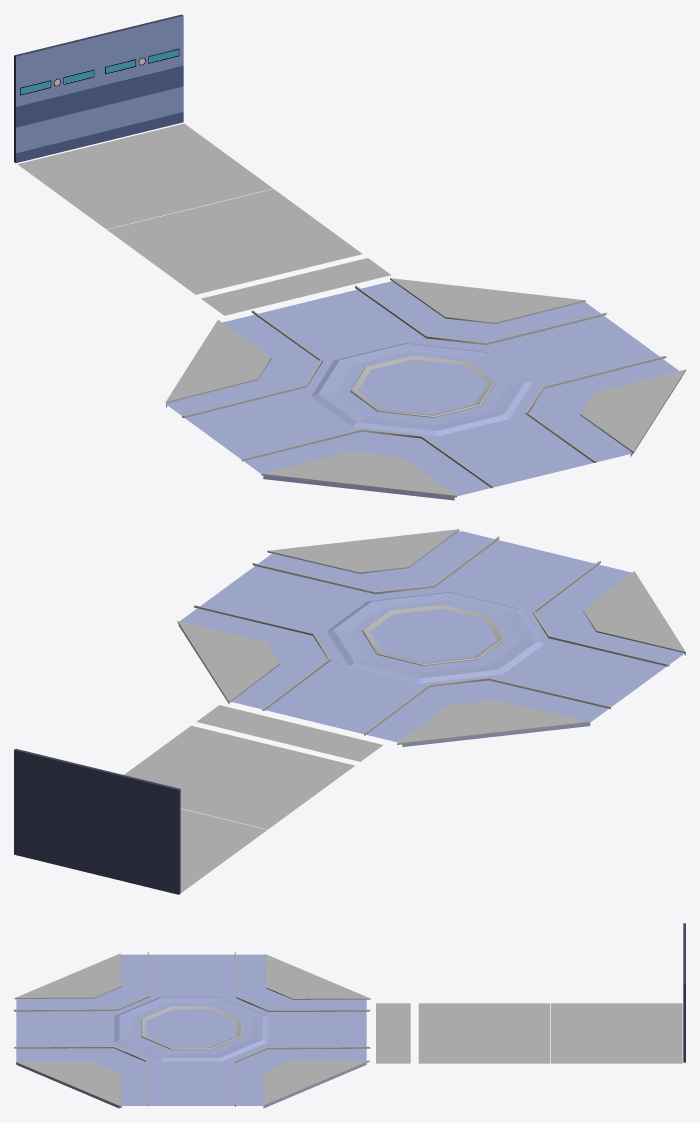
3 renders of one model, top to bottom at view 1: azimuth 30°, elevation 25°; view 2: azimuth 150°, elevation 25°; view 3: azimuth 270°, elevation 25°, orthographic. The views are drawn at different scales.
Parts seen in each view (by area): view 1: polySurface2442, trimsheet8, polySurface1, polySurface2877, polySurface2878, polySurface2443, polySurface2879, polySurface2703, polySurface2397; view 2: polySurface2442, trimsheet8, polySurface1, polySurface2443, polySurface2878, polySurface2879, polySurface2877, polySurface2703, polySurface2397; view 3: polySurface2442, polySurface1, polySurface2878, polySurface2877, polySurface2443, polySurface2879, polySurface2703, polySurface2397, trimsheet8.
Part boxes in pixels (box(x1,y1,x2,y2)): polySurface2442: box(166, 281, 681, 500); trimsheet8: box(14, 14, 183, 162); polySurface1: box(165, 278, 685, 497); polySurface2877: box(17, 123, 272, 229); polySurface2878: box(107, 189, 362, 294); polySurface2443: box(311, 343, 531, 436); polySurface2879: box(201, 258, 390, 315); polySurface2703: box(182, 285, 666, 488); polySurface2397: box(350, 355, 495, 417); polySurface2442: box(178, 531, 685, 746); trimsheet8: box(14, 749, 180, 894); polySurface1: box(177, 529, 685, 744); polySurface2443: box(326, 592, 543, 683); polySurface2878: box(124, 725, 354, 829); polySurface2879: box(196, 705, 382, 761); polySurface2877: box(180, 809, 266, 892); polySurface2703: box(194, 536, 669, 735); polySurface2397: box(362, 604, 504, 665); polySurface2442: box(16, 954, 366, 1108); polySurface1: box(14, 953, 370, 1107); polySurface2878: box(418, 1003, 550, 1063); polySurface2877: box(551, 1003, 682, 1063); polySurface2443: box(114, 997, 267, 1061); polySurface2879: box(376, 1003, 410, 1063); polySurface2703: box(14, 952, 370, 1106); polySurface2397: box(141, 1006, 241, 1049); trimsheet8: box(683, 923, 685, 1062).
Size of the model in its own units: 301 by 74.86 by 555.
